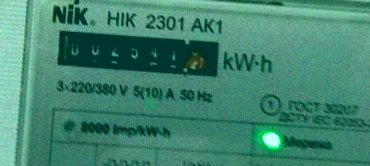0: (66, 35, 81, 57), (87, 34, 101, 56)
1: (166, 42, 178, 63)
2: (107, 37, 120, 58)
4: (147, 39, 160, 61)
5: (126, 38, 139, 61)
6: (187, 56, 199, 71)
screen: (44, 18, 230, 87)
